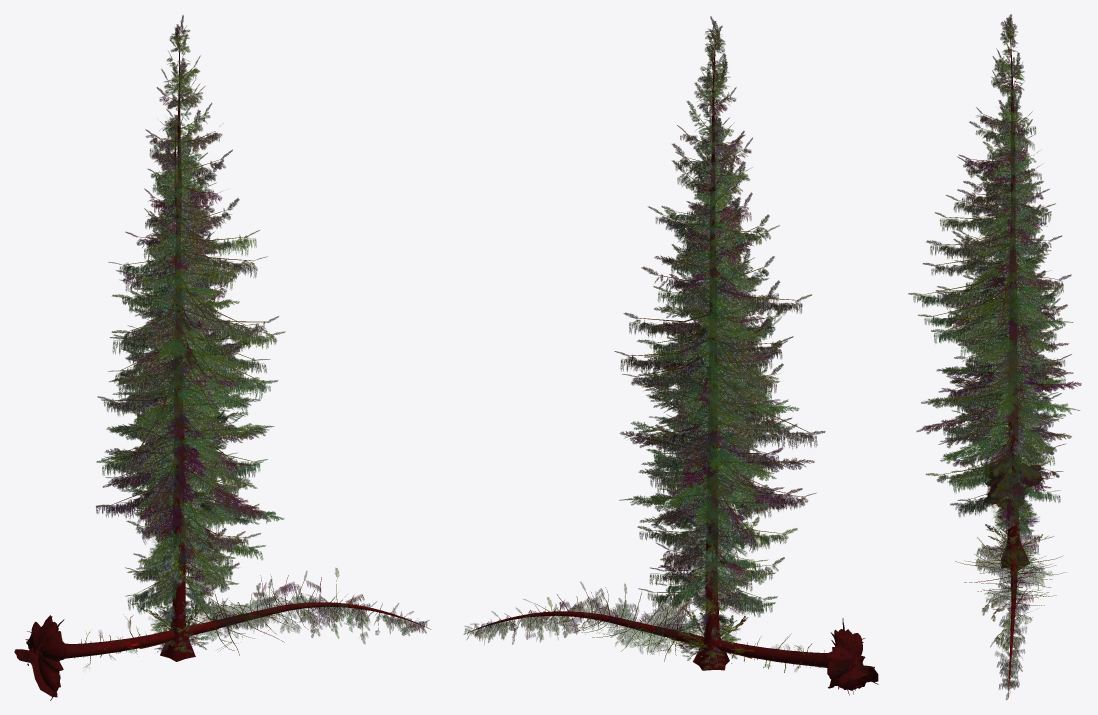
File: trees.glb
The picture shows the model from 3 angles, left to right: view 1: azimuth 30°, elevation 25°; view 2: azimuth 150°, elevation 25°; view 3: azimuth 270°, elevation 25°; orthographic projection. The views are drawn at different scales.
Parts seen in each view (by area): view 1: conifer_2, conifer_0, conifer_3, conifer_1, fallen_tree, fallen_tree_b, fallen_tree_a, fallen_debris; view 2: conifer_2, conifer_3, conifer_0, conifer_1, fallen_tree, fallen_tree_b, fallen_tree_a; view 3: conifer_2, conifer_3, conifer_0, conifer_1, fallen_tree, fallen_tree_b, shrub_1, fallen_tree_a.
Part boxes in pixels (bbox=[...]): conifer_2: bbox=[108, 15, 285, 661]; conifer_0: bbox=[95, 114, 267, 658]; conifer_3: bbox=[101, 154, 284, 625]; conifer_1: bbox=[122, 231, 266, 630]; fallen_tree: bbox=[25, 568, 430, 700]; fallen_tree_b: bbox=[186, 568, 428, 655]; fallen_tree_a: bbox=[26, 616, 174, 700]; fallen_debris: bbox=[14, 604, 315, 697]; conifer_2: bbox=[614, 16, 825, 670]; conifer_3: bbox=[619, 164, 814, 633]; conifer_0: bbox=[638, 116, 816, 636]; conifer_1: bbox=[637, 242, 797, 639]; fallen_tree: bbox=[465, 582, 878, 695]; fallen_tree_b: bbox=[464, 582, 702, 661]; fallen_tree_a: bbox=[716, 618, 877, 694]; conifer_2: bbox=[908, 14, 1071, 569]; conifer_3: bbox=[916, 135, 1081, 536]; conifer_0: bbox=[936, 96, 1071, 563]; conifer_1: bbox=[925, 218, 1065, 540]; fallen_tree: bbox=[955, 456, 1066, 699]; fallen_tree_b: bbox=[972, 535, 1063, 699]; shrub_1: bbox=[985, 517, 1053, 548]; fallen_tree_a: bbox=[984, 457, 1044, 521].
Size of what is drawn, in the model's own units: 19.57 by 31.32 by 8.52.
Materials: 5 (5 with a texture image).
